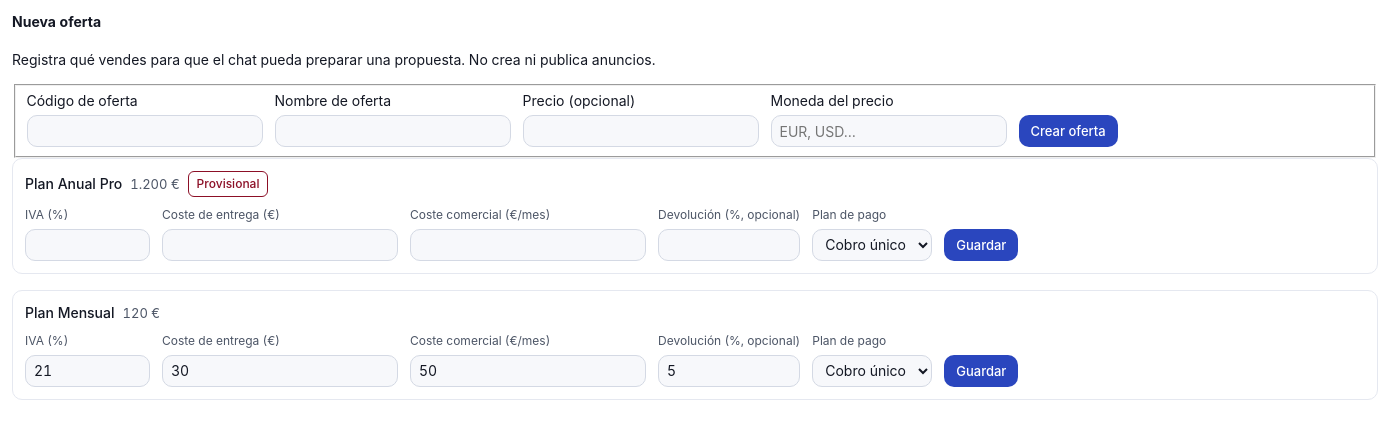
OfferingsEconomicsTable › no envía la petición si faltan campos obligatorios
Check: the text "Plan Anual Pro" is shown, box [25,174,122,194]
Click the button with aria-label "Guardar economía de Plan Anual Pro" at (981, 245), box [944,229,1018,261]
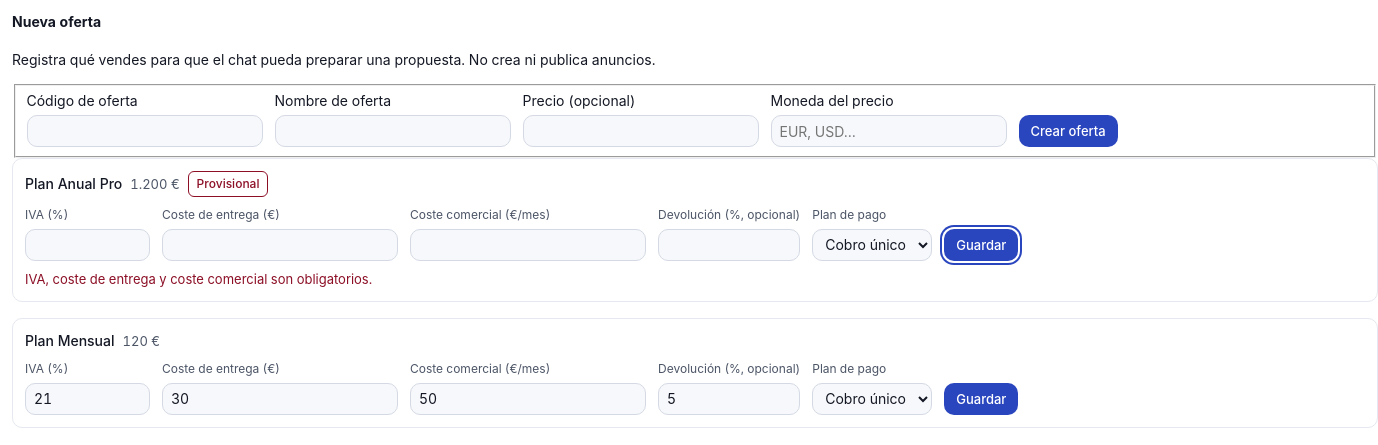
Check: the text "IVA, coste de entrega y coste comercial son obligatorios." is shown, box [25,271,372,287]
